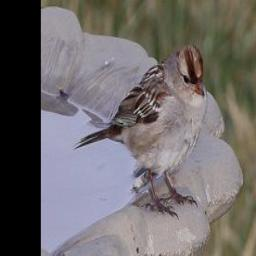Sparrow: (72, 43, 211, 221)
